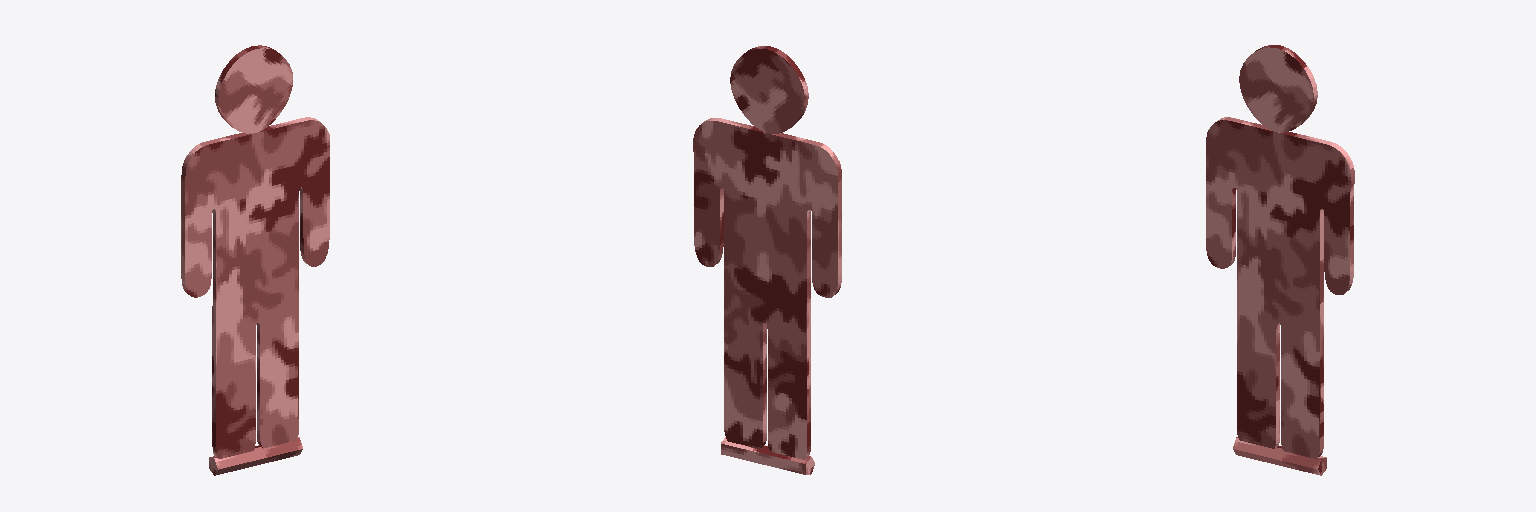
3 renders of one model, left to right at view 1: azimuth 30°, elevation 25°; view 2: azimuth 150°, elevation 25°; view 3: azimuth 330°, elevation 25°, orthographic.
Parts seen in each view (by area): view 1: Cylinder01_Cylinder01.003; view 2: Cylinder01_Cylinder01.003; view 3: Cylinder01_Cylinder01.003.
Part boxes in pixels (bbox=[...]): Cylinder01_Cylinder01.003: bbox=[181, 45, 329, 475]; Cylinder01_Cylinder01.003: bbox=[693, 46, 841, 474]; Cylinder01_Cylinder01.003: bbox=[1206, 45, 1354, 475].
Bounding box in the file's own units: 1.35 × 3.72 × 0.1492.
Materials: 1 (1 with a texture image).